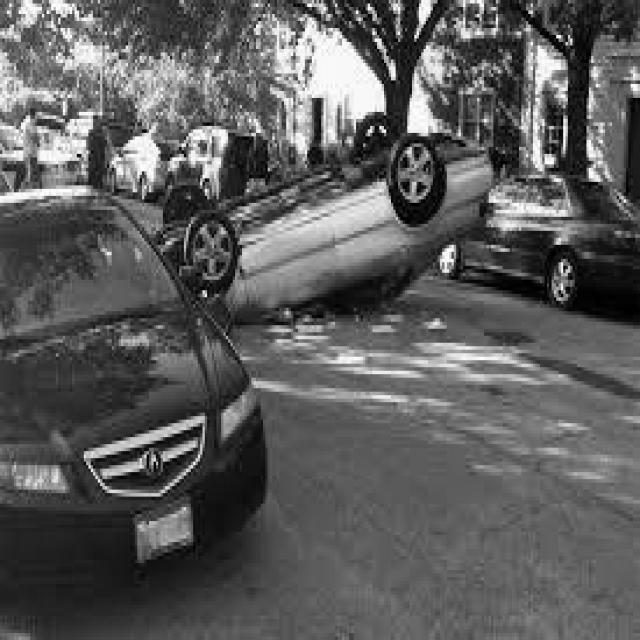accident: (149, 107, 496, 335)
vehicle: (0, 181, 272, 610), (495, 161, 639, 313), (168, 127, 268, 196), (110, 130, 177, 200)
